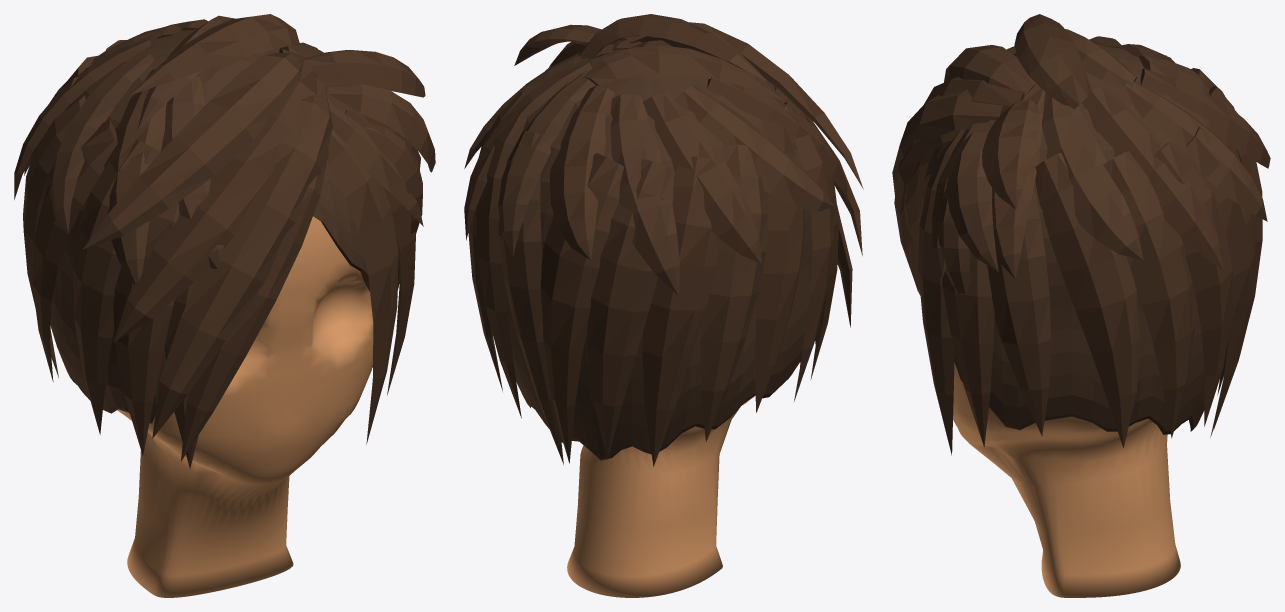
File: montagem-feminina-01.glb
The picture shows the model from 3 angles, left to right: view 1: azimuth 30°, elevation 25°; view 2: azimuth 150°, elevation 25°; view 3: azimuth 270°, elevation 25°; orthographic projection. The views are drawn at different scales.
Visible parts, largest first — view 1: Corte_Feminino_01_Preservado, Base_Feminina_01_R02; view 2: Corte_Feminino_01_Preservado, Base_Feminina_01_R02; view 3: Corte_Feminino_01_Preservado, Base_Feminina_01_R02.
Boxes of the visible parts, x1,y1,x2,y2 form: Corte_Feminino_01_Preservado: (14, 14, 435, 469); Base_Feminina_01_R02: (117, 216, 373, 597); Corte_Feminino_01_Preservado: (464, 14, 863, 466); Base_Feminina_01_R02: (567, 395, 755, 597); Corte_Feminino_01_Preservado: (892, 14, 1270, 455); Base_Feminina_01_R02: (953, 362, 1180, 597).
Size of the model in its own units: 0.222 by 0.3331 by 0.2118.
